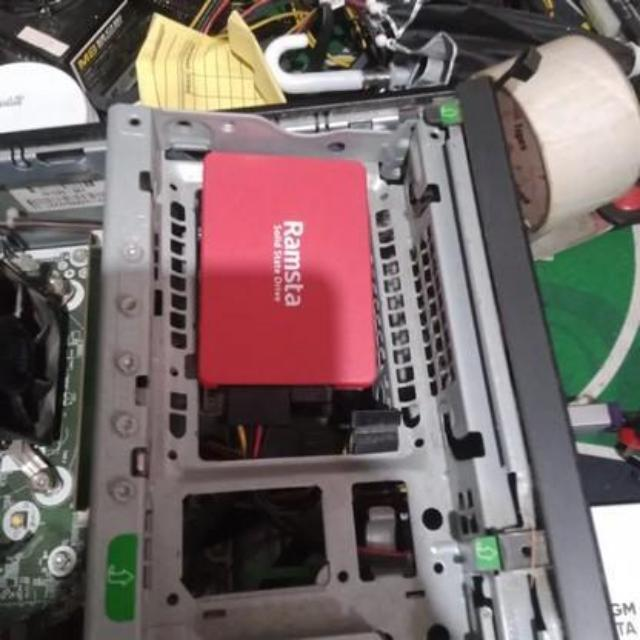DISK: (199, 146, 379, 392)
